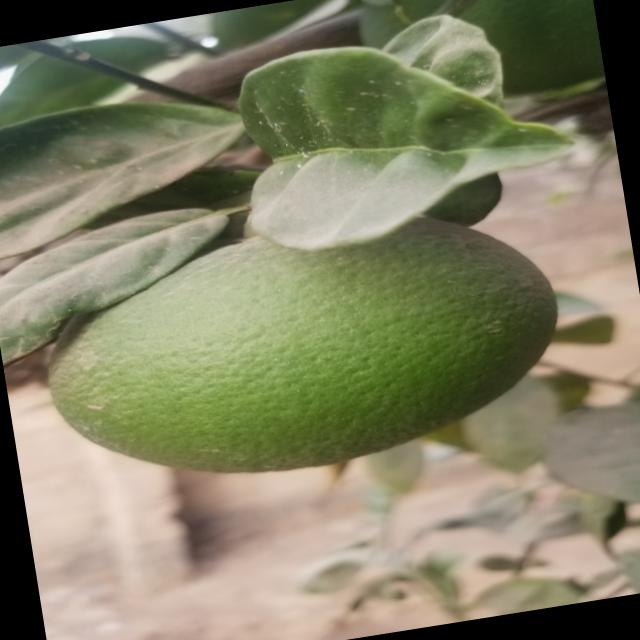agrume: (25, 191, 575, 506)
